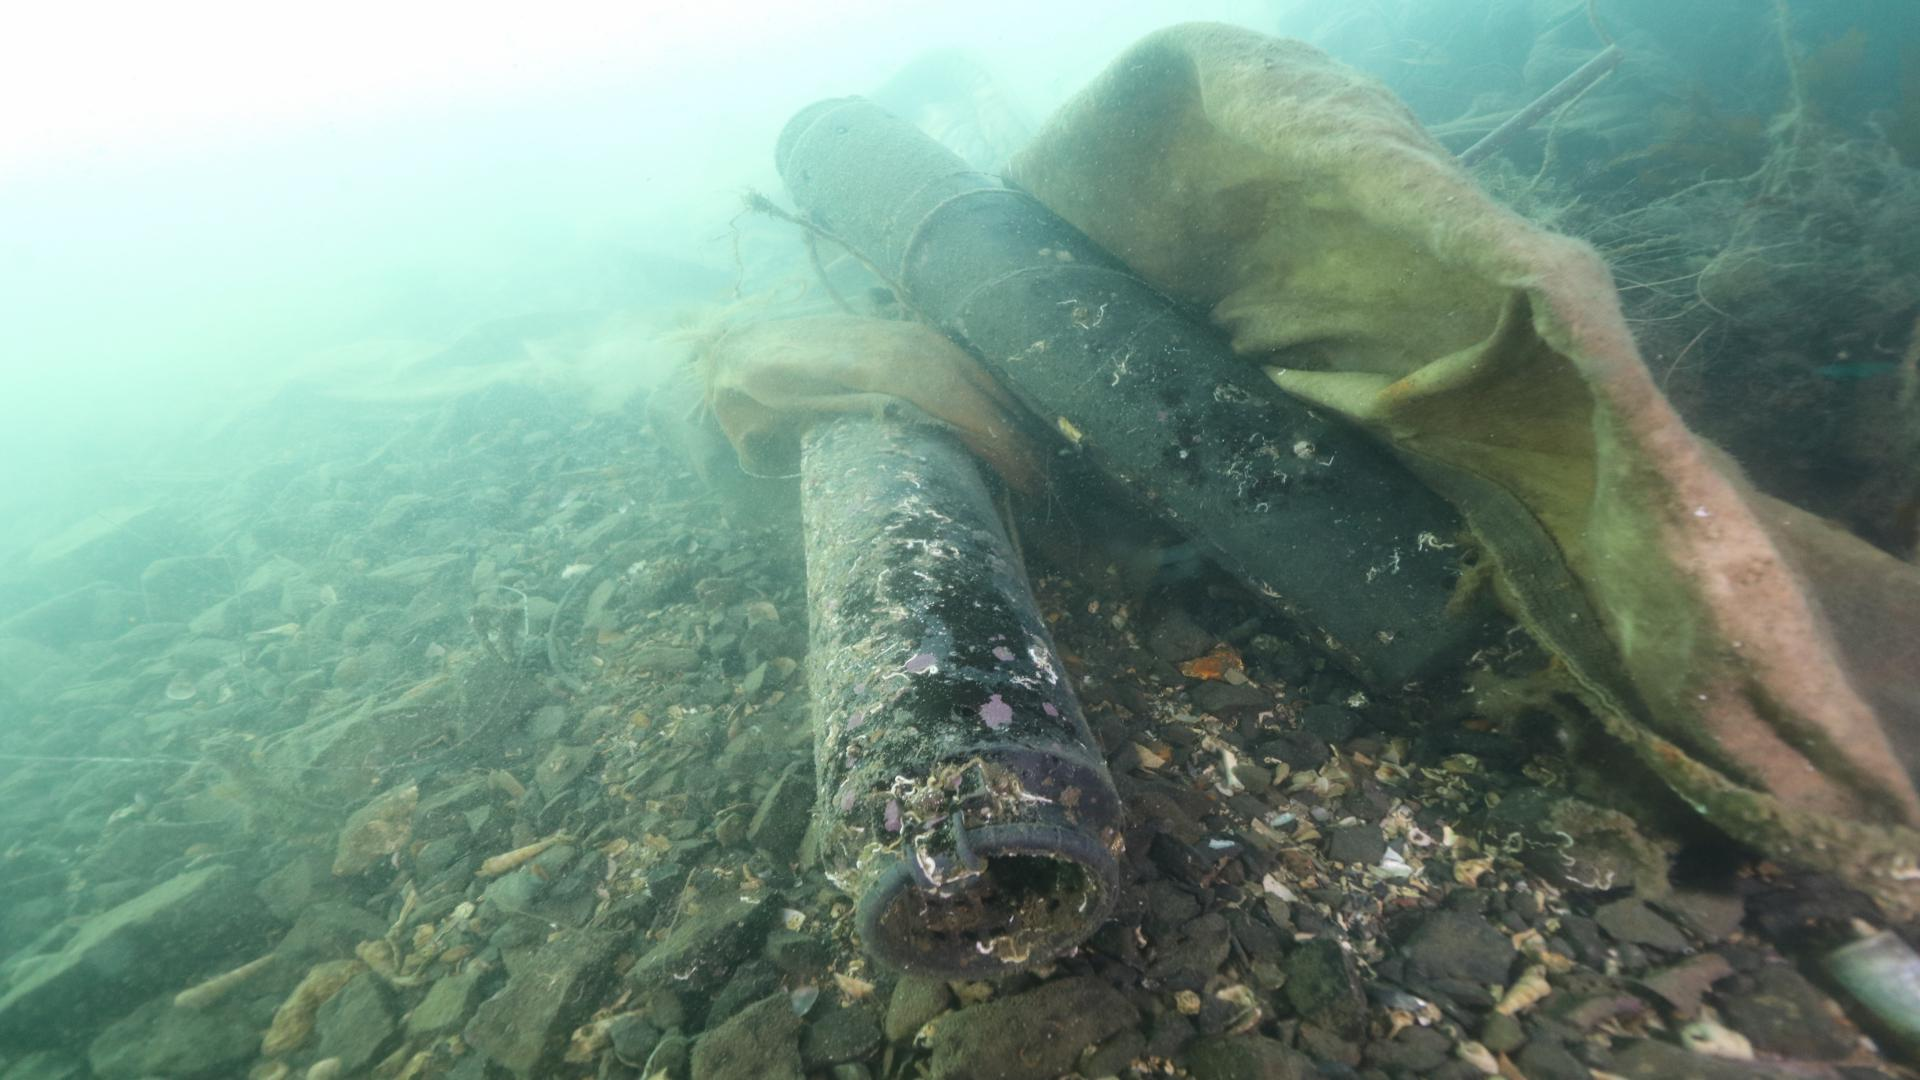bundle of ropes: (773, 182, 1031, 320)
eel fish trap: (773, 94, 1485, 680), (795, 415, 1127, 981)
